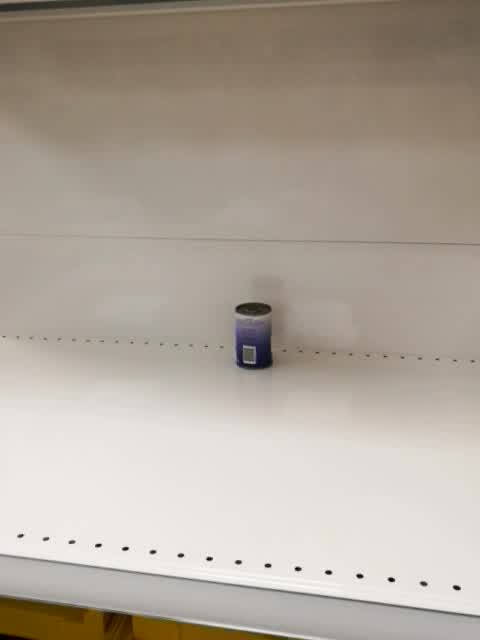sardine: (233, 301, 274, 371)
